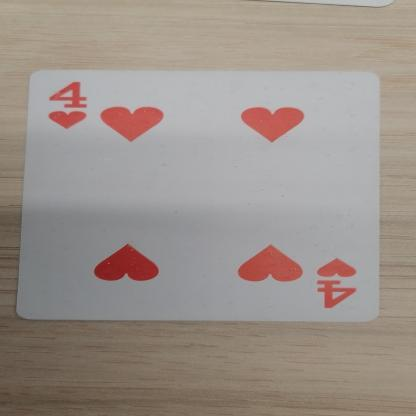4H: (306, 249, 374, 322), (36, 75, 98, 133)
